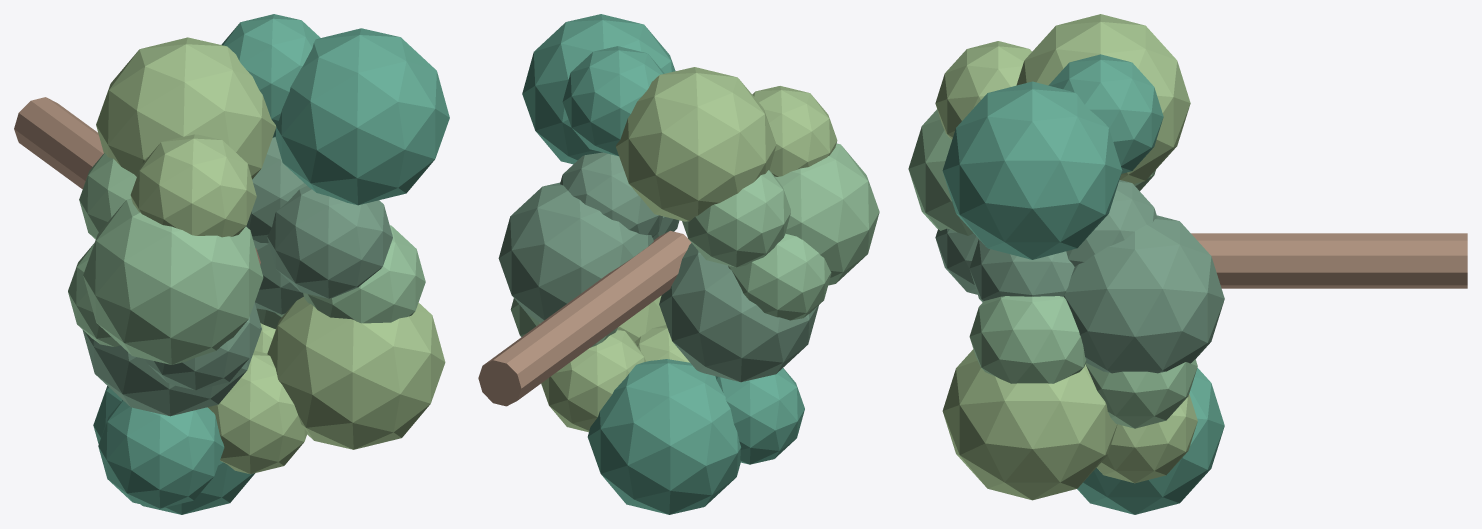
The model's file is banana_tree.glb.
3 renders of one model, left to right at view 1: azimuth 30°, elevation 25°; view 2: azimuth 150°, elevation 25°; view 3: azimuth 270°, elevation 25°, orthographic. The views are drawn at different scales.
Parts seen in each view (by area): view 1: leaf2, leaf3, foliage, green, wood; view 2: leaf3, leaf2, green, foliage, wood; view 3: leaf3, leaf2, green, foliage, wood.
Boxes of the visible parts, bbox=[...] form: leaf2: bbox=[96, 37, 445, 474]; leaf3: bbox=[93, 14, 449, 514]; foliage: bbox=[68, 153, 425, 364]; green: bbox=[82, 137, 392, 416]; wood: bbox=[14, 97, 260, 264]; leaf3: bbox=[522, 14, 804, 514]; leaf2: bbox=[541, 67, 837, 432]; green: bbox=[498, 152, 818, 382]; foliage: bbox=[510, 143, 879, 347]; wood: bbox=[478, 230, 691, 406]; leaf3: bbox=[942, 54, 1224, 514]; leaf2: bbox=[935, 14, 1197, 500]; green: bbox=[935, 180, 1224, 373]; foliage: bbox=[908, 109, 1197, 428]; wood: bbox=[1191, 233, 1467, 288].
Size of the model in its own units: 4.61 by 5.92 by 6.22.
